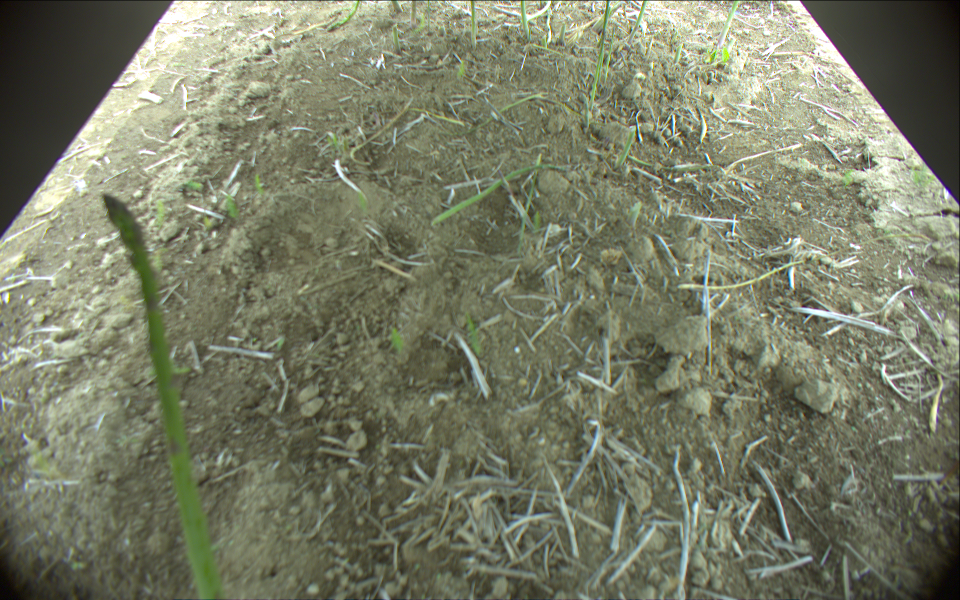aspa: (100, 193, 228, 600), (429, 164, 567, 229), (590, 1, 610, 113), (499, 92, 585, 117), (715, 1, 739, 58), (323, 1, 362, 34), (615, 129, 636, 169), (626, 1, 645, 43), (517, 1, 534, 41), (466, 1, 478, 45), (389, 24, 402, 55), (670, 43, 688, 64), (558, 22, 566, 45), (647, 37, 658, 51)
